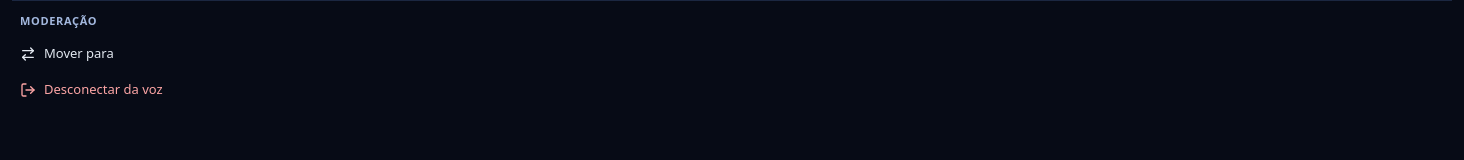
Test case: mover e desconectar pelo cartão › Mover para lista as outras salas e pede a troca
Later steps or results of the test are not shown.
What coordinates should you click on to do the following:
click the button "Mover para"
I would click on:
 (79, 53)
Its box is top-left (12, 38), bottom-right (1452, 70).
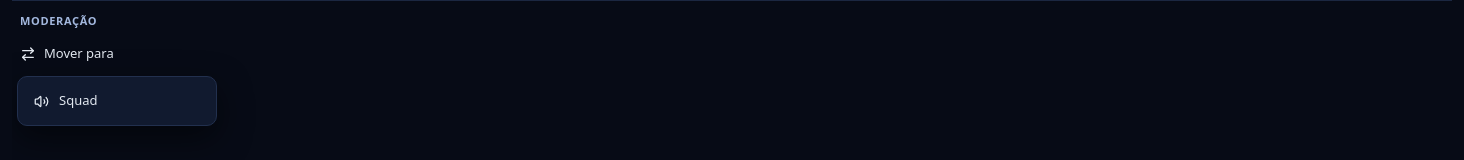
Expected: the menu named "Mover para" does not show "Sala", top-left (17, 76), bottom-right (217, 126)
Expected: the menu named "Mover para" reads "Squad", top-left (59, 91), bottom-right (98, 109)
